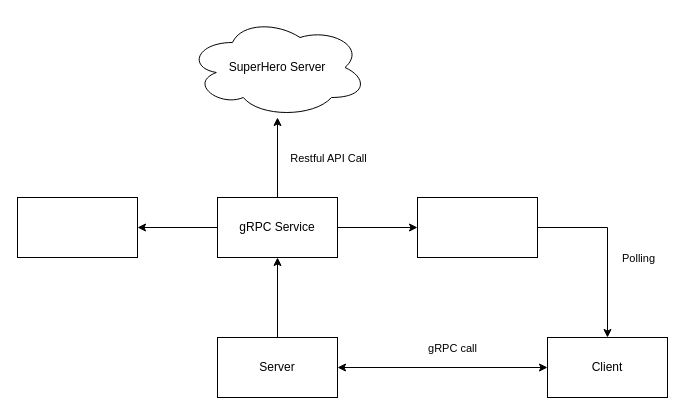
Some shapes in this 685 by 415 pixel diagram are drawn without their labels. The shapes that lost their labels are listed below. From the top down, each one's box as (x1, y1, x2, y2) in pixels, then its label:
(16, 196, 138, 258): InMenmory Cache
(416, 196, 538, 258): Message Queue
